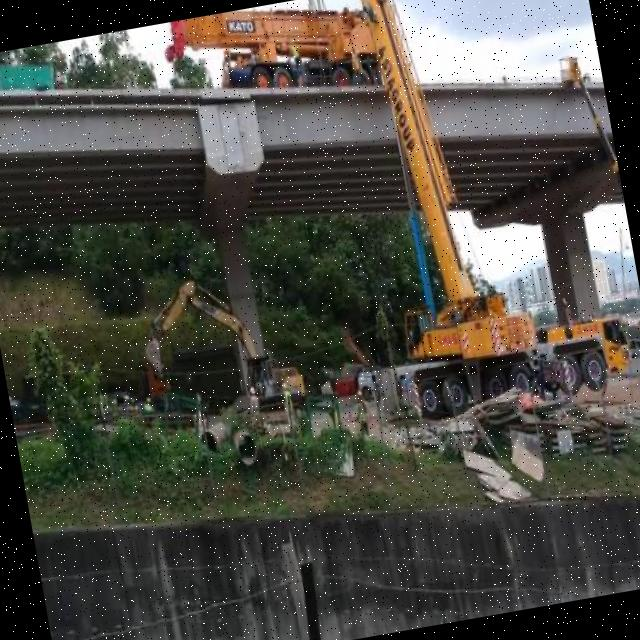Excavator: (132, 262, 309, 448)
Mobile Crane: (328, 0, 635, 424), (165, 0, 389, 125)
